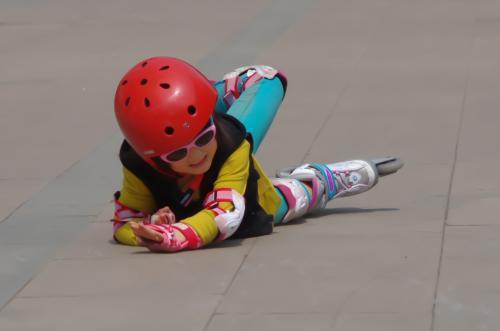Fall-Detected: (97, 45, 402, 256)
